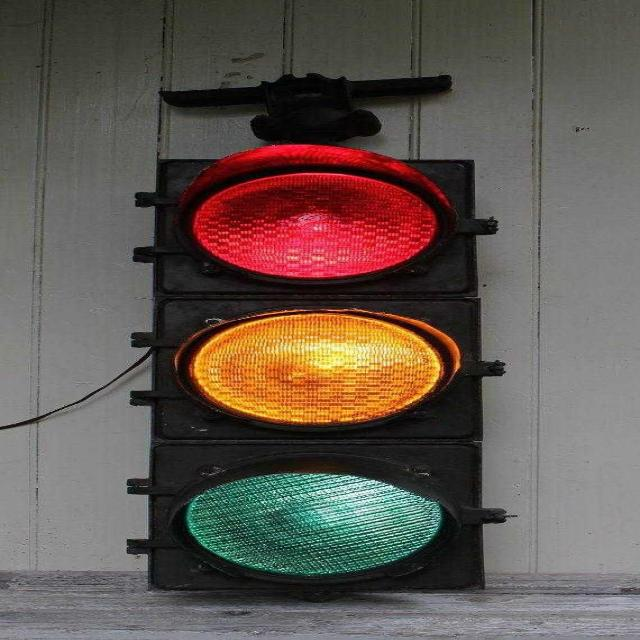Traffic Light -Off-: (133, 110, 503, 625)
